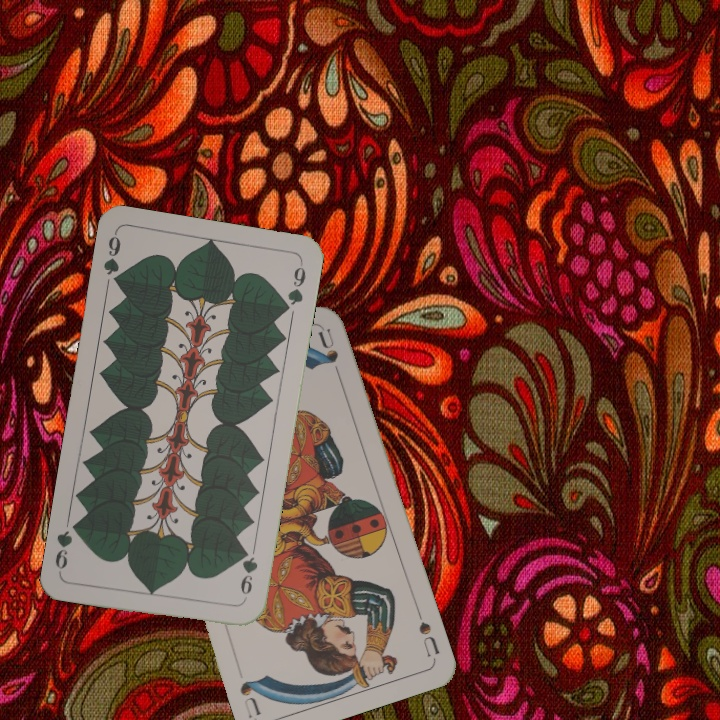G9: (99, 229, 124, 290), (236, 544, 261, 604)
SU: (412, 604, 442, 662)
